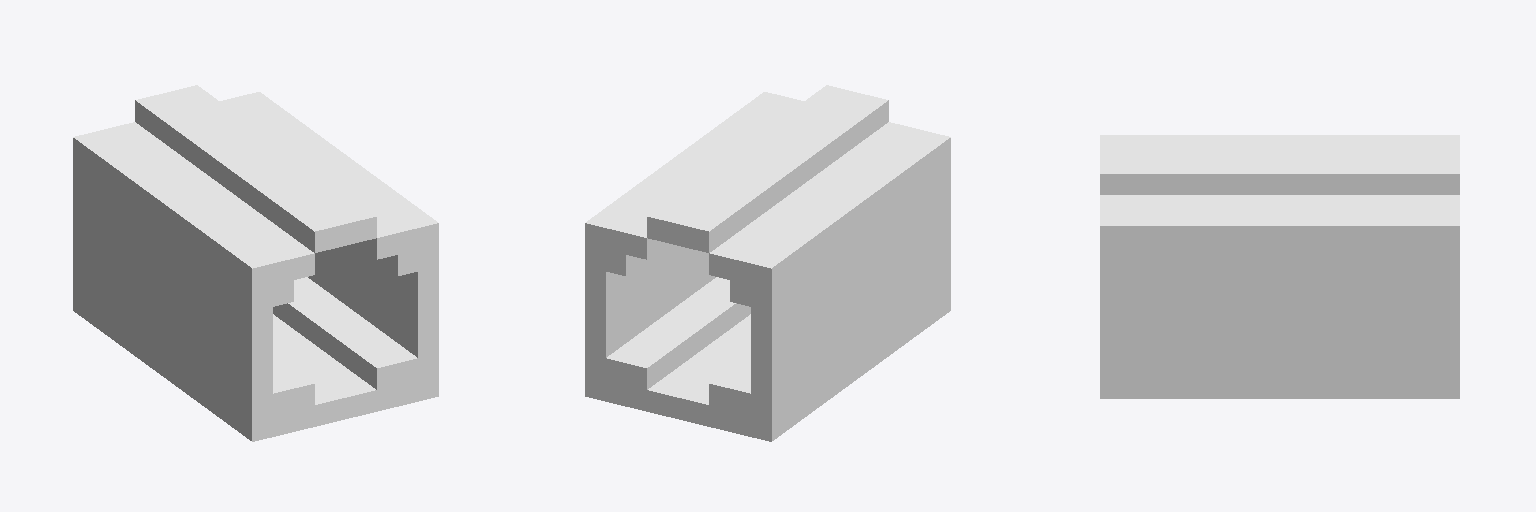
The model's file is SmallSLong.obj.
The picture shows the model from 3 angles: view 1: azimuth 30°, elevation 25°; view 2: azimuth 150°, elevation 25°; view 3: azimuth 270°, elevation 25°; orthographic projection.
Size of the model in its own units: 9 by 9 by 15.